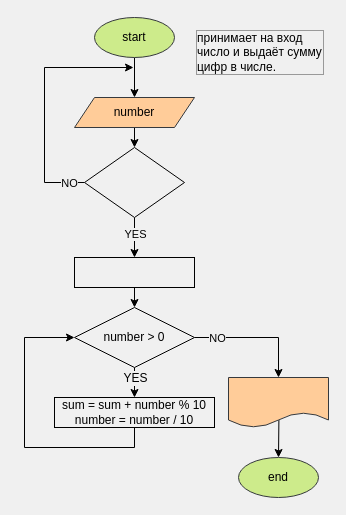
This 346x515 diagram has some shape labels left out. Here are the shapes that lost their labels. From the top down, the centre of each, then its label:
At pixel 134 182: "number ∈ Z".
At pixel 134 272: "number = |number| sum = 0".
At pixel 278 402: "sum".
